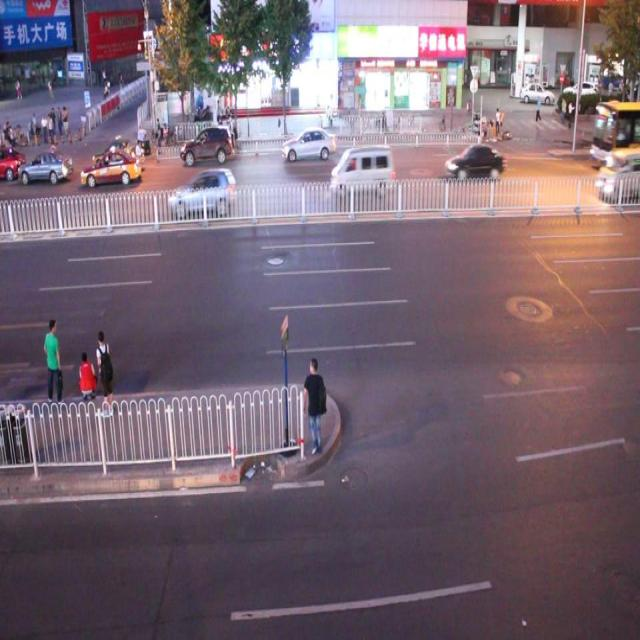car: (169, 169, 235, 217), (443, 144, 504, 182), (81, 149, 140, 185), (179, 126, 234, 163), (281, 127, 336, 162), (19, 152, 72, 184), (98, 139, 143, 170), (1, 146, 25, 180)
truck: (330, 144, 393, 196), (596, 150, 640, 202)
van: (589, 99, 640, 166)
